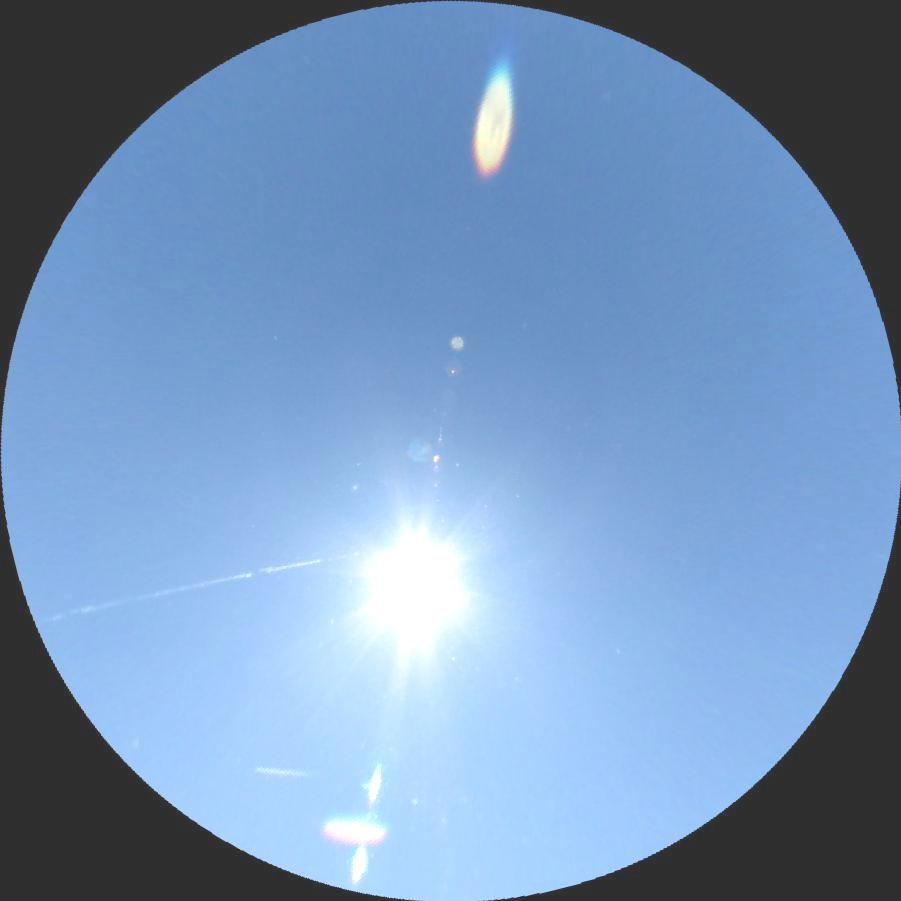contrail young: (249, 763, 308, 782)
parasite: (34, 545, 358, 624)
sun: (352, 523, 472, 643)
